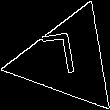L_S: (47, 33, 88, 87)
